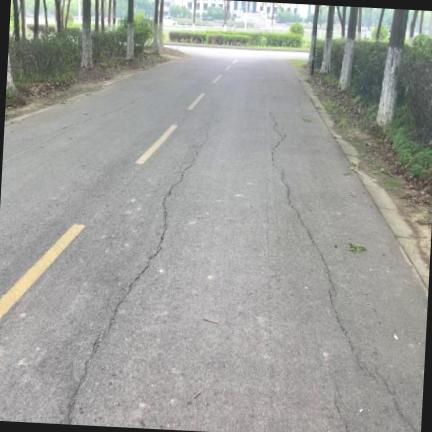Road: (0, 48, 427, 431)
